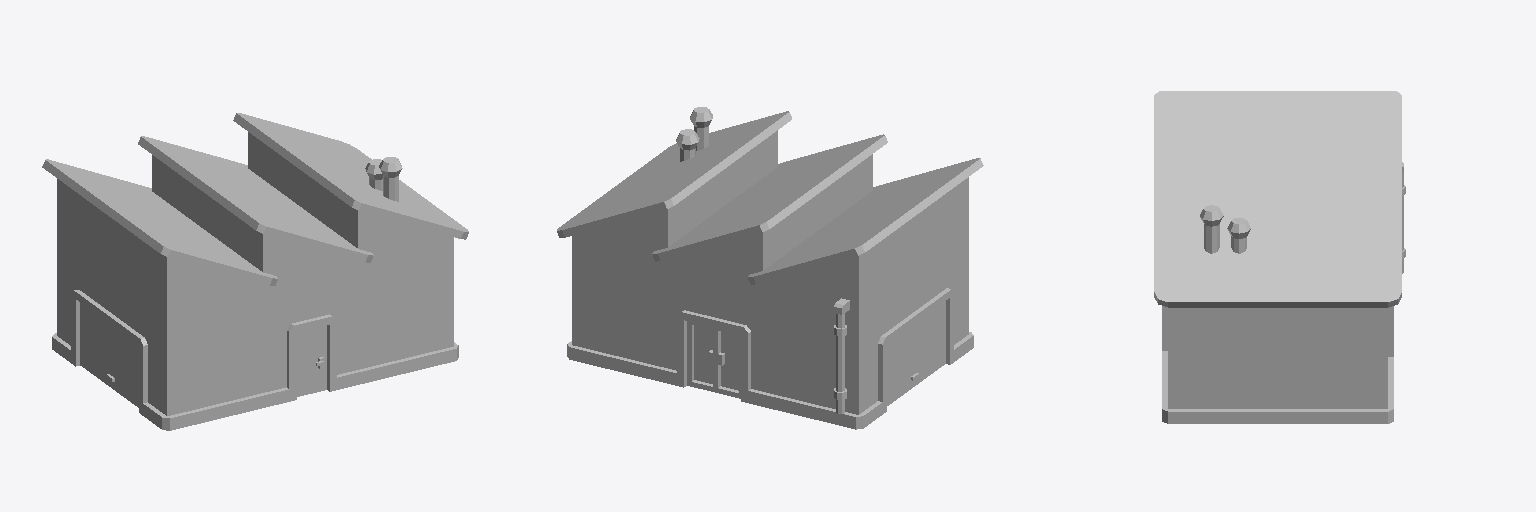
The model's file is industrial_building-k.obj.
3 renders of one model, left to right at view 1: azimuth 30°, elevation 25°; view 2: azimuth 150°, elevation 25°; view 3: azimuth 270°, elevation 25°, orthographic.
Parts seen in each view (by area): view 1: building-k; view 2: building-k; view 3: building-k.
Boxes of the visible parts, box(x1,y1,x2,y2) form: building-k: box(42, 113, 468, 430); building-k: box(557, 107, 983, 429); building-k: box(1154, 91, 1405, 423).
Bounding box in the file's own units: 1.3 × 0.7727 × 0.9136.